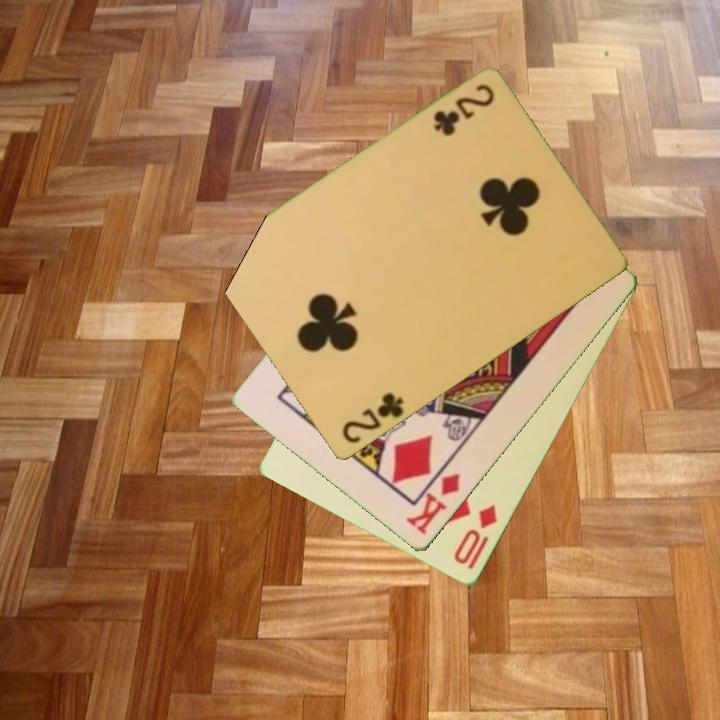10d: (450, 501, 501, 573)
2c: (338, 389, 407, 447), (430, 81, 498, 139)
Kd: (402, 470, 464, 539)
